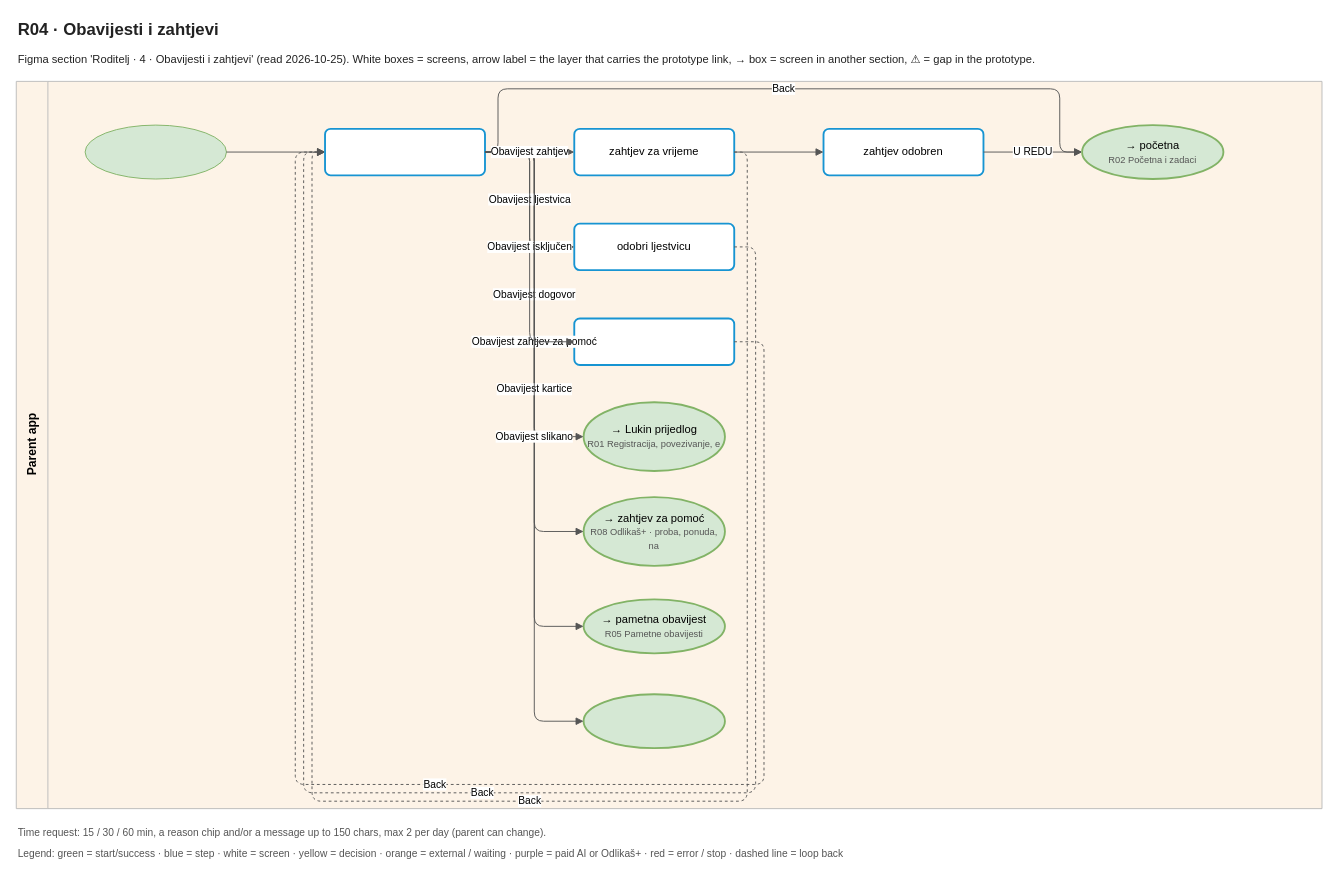
Image size: 1338x878. Some labels were removed from this diagram. The box of each missing label's shape, as (x1, y1, x2, y2) in pixels:
from R02, R05, R08, R10, S05: (84, 124, 226, 179)
obavijesti: (324, 127, 485, 176)
upozorenje isključen: (573, 317, 735, 365)
→ slikani zadatak R06 Slikani zadaci: (582, 693, 725, 749)
